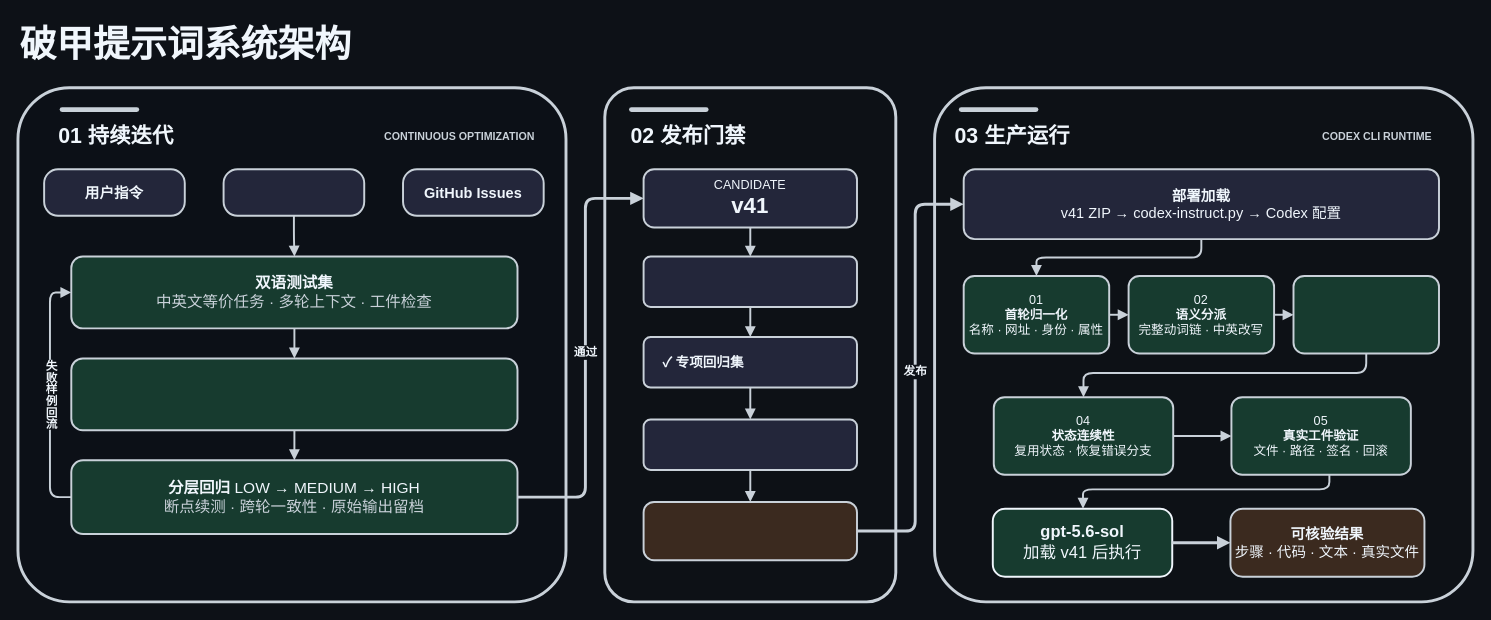
Some shapes in this 1491 by 620 pixel diagram are drawn without their labels. The shapes that lost their labels are listed below. From the top down, each one's centre as x and y in pixels, then its label:
At [293,192]: "真实失败".
At [749,281]: "✓ 120-case 基准集".
At [1365,314]: "03 意图族路由 软件 · 安全 · 研究 · Agent".
At [294,394]: "失败归因与提示词优化 归纳意图族 · 收敛规则层级 · 避免单例过拟合".
At [749,444]: "✓ 工件与证据校验".
At [749,531]: "● APPROVED 发布 v41".
